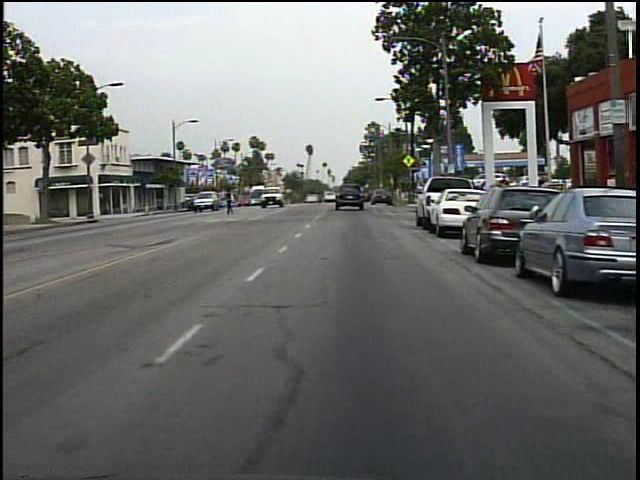person: (493, 171, 518, 222), (223, 184, 239, 218)
